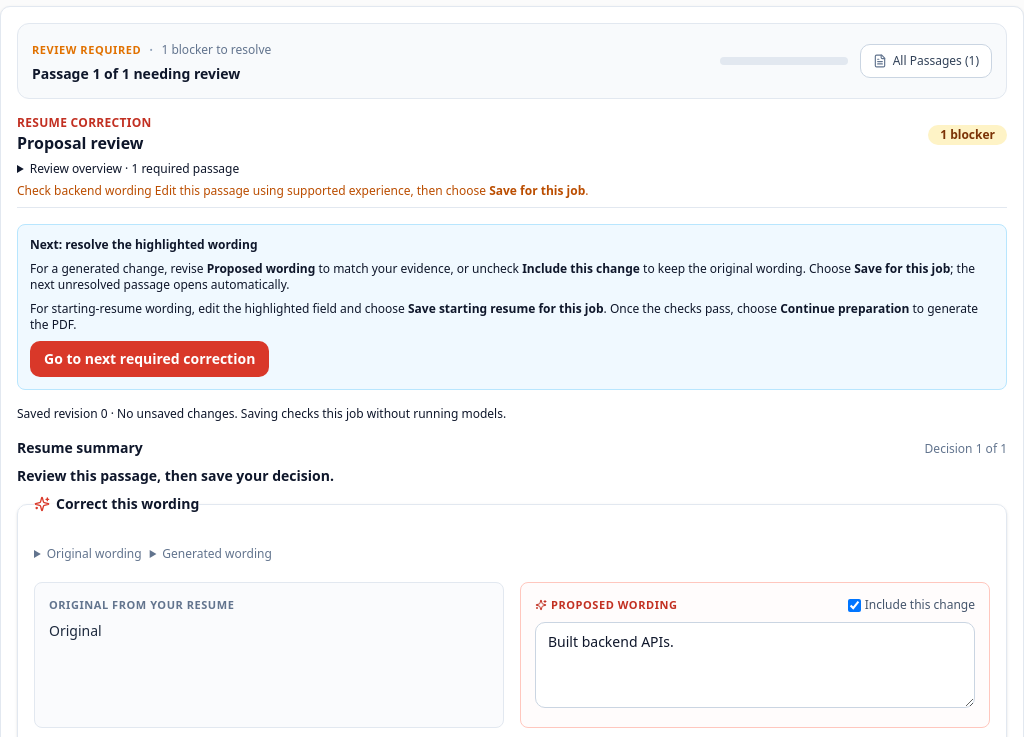
Test: saves actual wording for this job without memory or implicit continuation
Replace the text in the text box named "Proposed wording" with "Built APIs.". click: (755, 665)
box: [535,622,975,708]
(page scrolled)
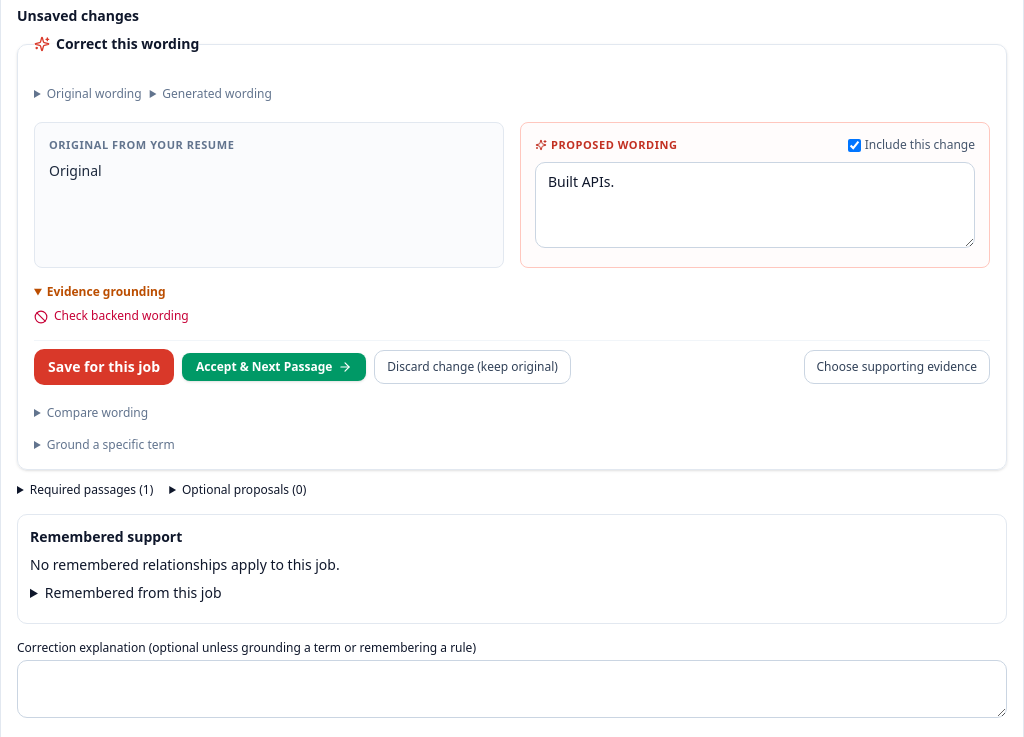
Click the button "Save for this job". click: (104, 367)
box: [34,349,174,385]
(page scrolled)
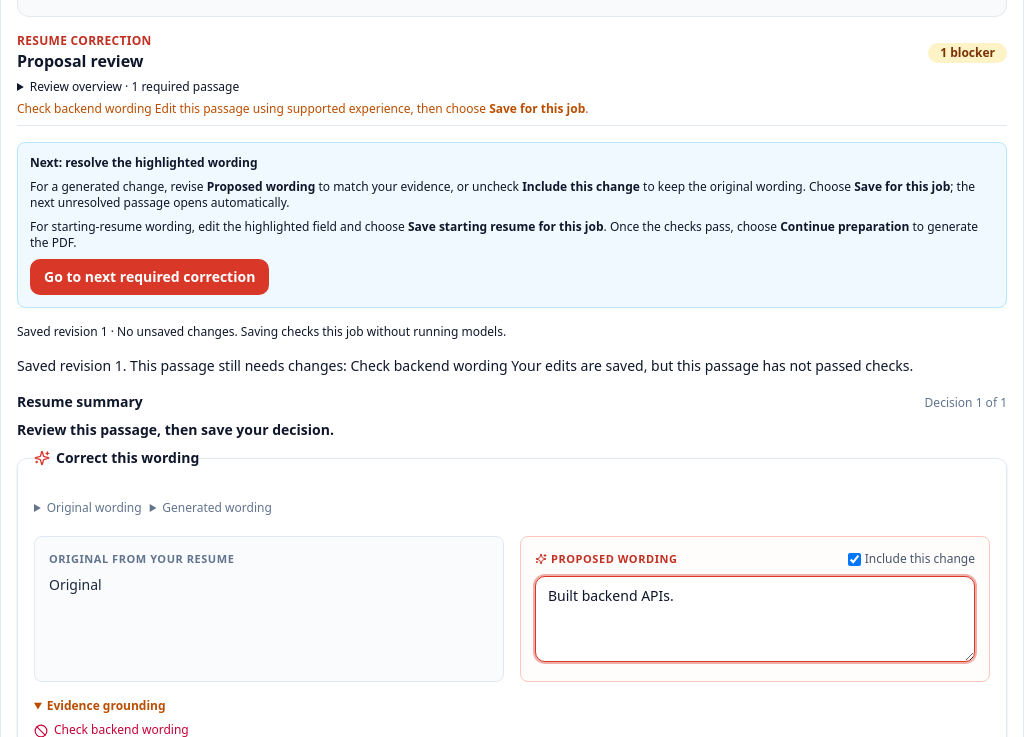
Result: the text "Saved revision 1." is shown at [17,356,913,375]
